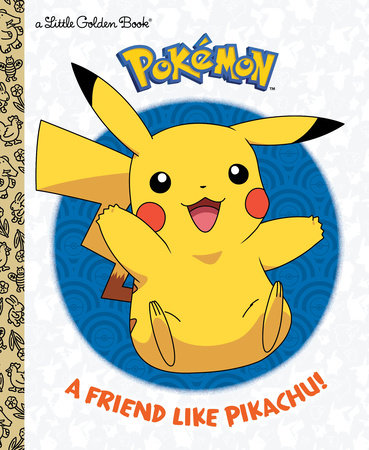pikachu: (32, 65, 347, 376)
